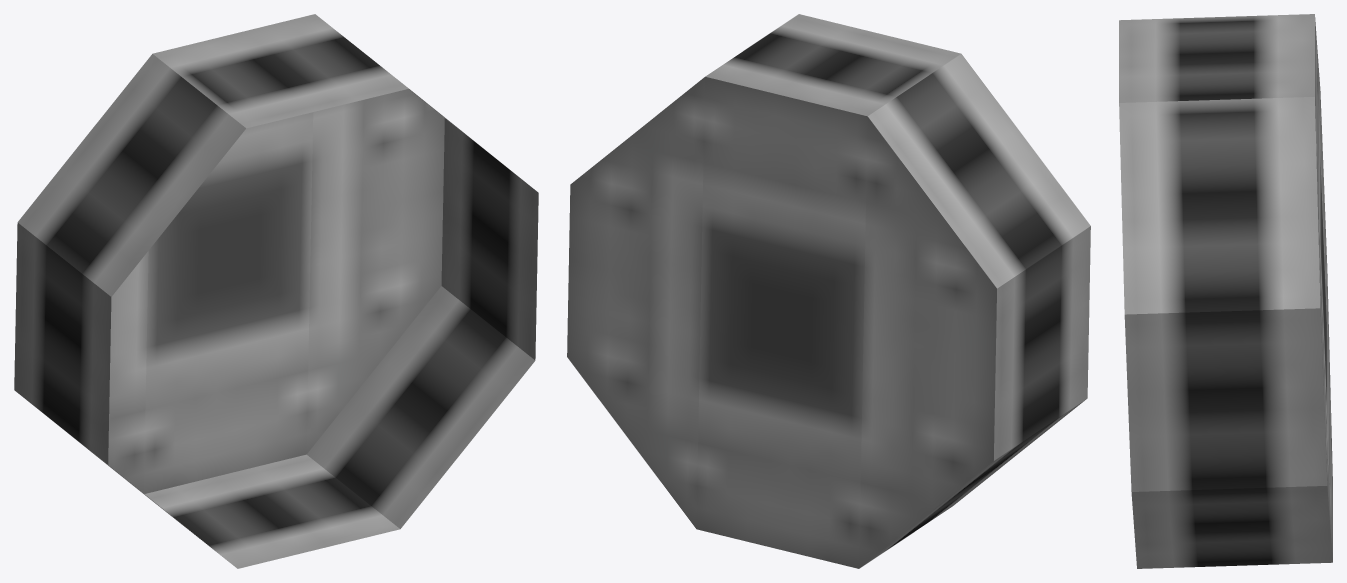
Rendered from rotary_kiln_rotor.obj.
3 views of the same model, side by side, from view 1: azimuth 30°, elevation 25°; view 2: azimuth 150°, elevation 25°; view 3: azimuth 270°, elevation 25° (orthographic). The views are drawn at different scales.
Parts seen in each view (by area): view 1: rotorInEnd; view 2: rotorInEnd; view 3: rotorInEnd.
Boxes of the visible parts, bbox=[...] form: rotorInEnd: bbox=[14, 14, 538, 568]; rotorInEnd: bbox=[567, 14, 1090, 568]; rotorInEnd: bbox=[1119, 14, 1332, 568].
Size of the model in its own units: 1.31 by 1.33 by 0.5456.
